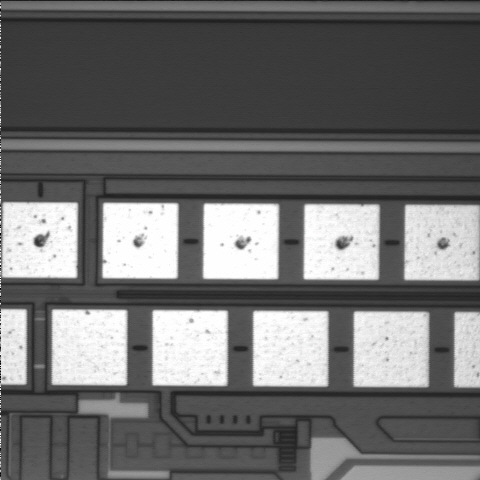pad: (2, 202, 78, 278), (102, 203, 178, 279), (203, 203, 279, 279), (152, 310, 228, 386), (304, 204, 379, 280), (52, 309, 127, 385), (253, 311, 328, 387), (354, 311, 429, 387)
